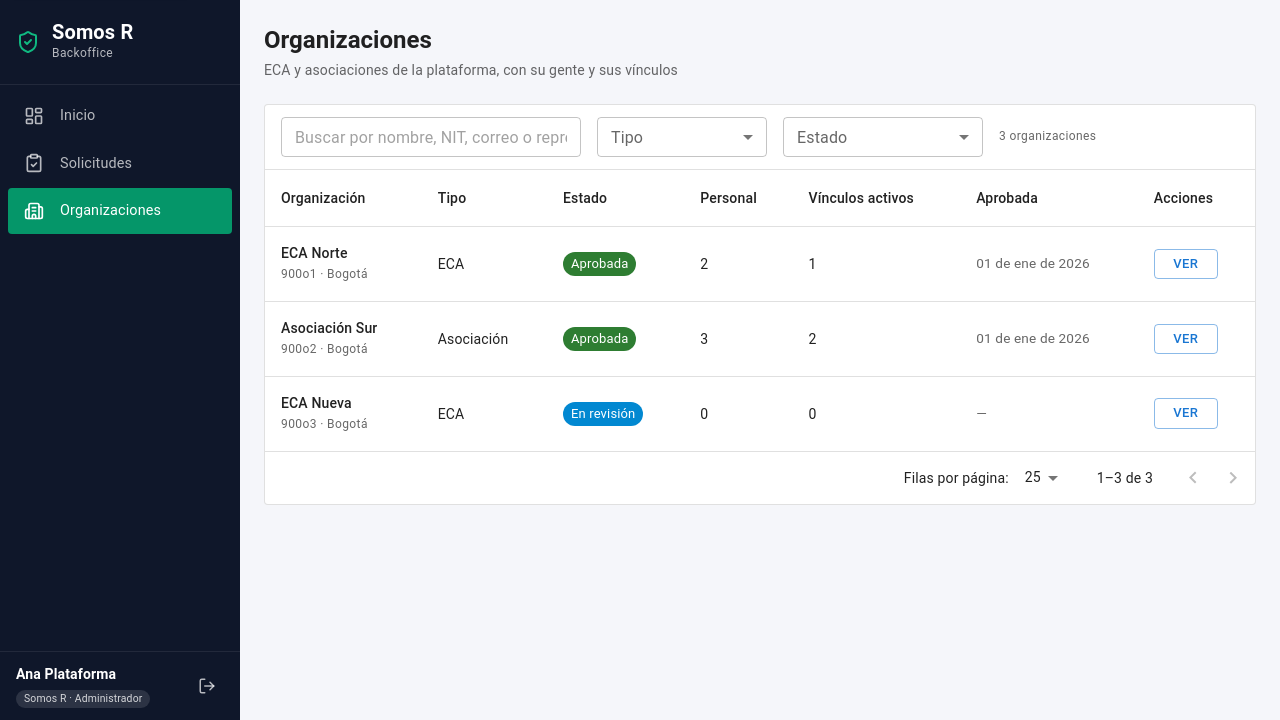
Test: organization detail › shows an Association with its recyclers and no warehouses
Step 1. Click the button "Ver" in the row of "Asociación Sur" → (1186, 339), box top-left (1154, 324), bottom-right (1218, 354)
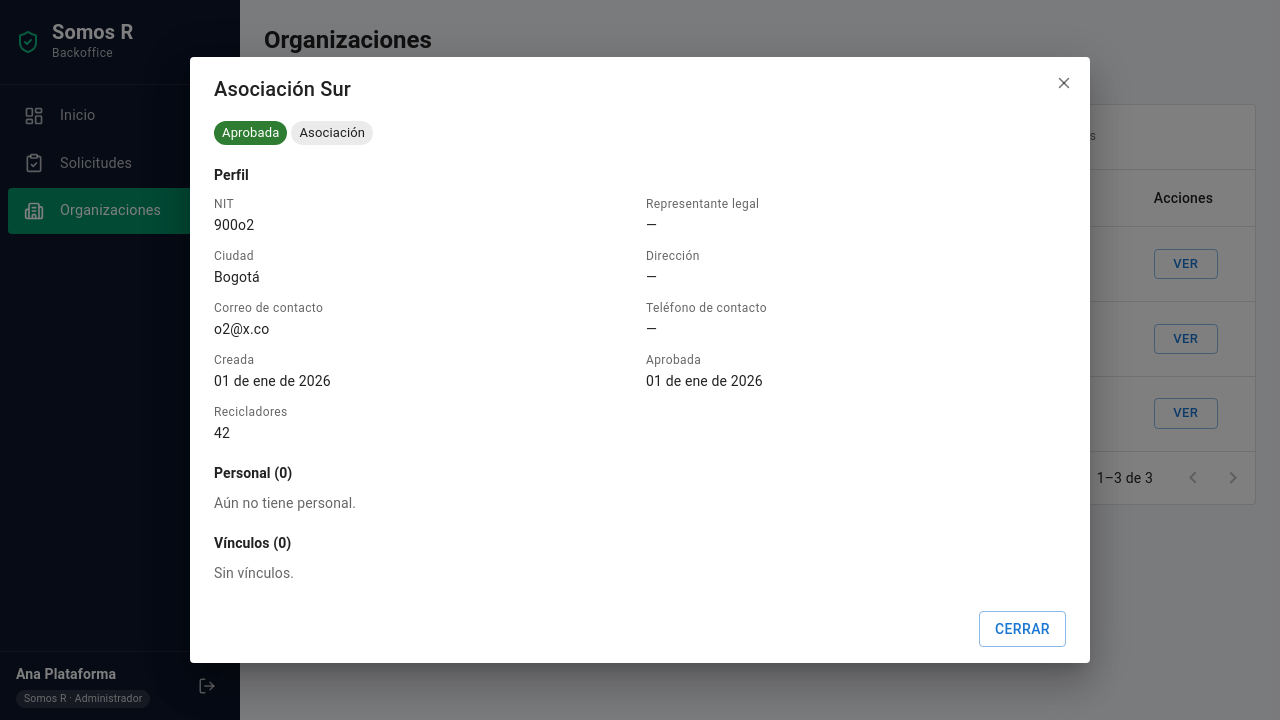
Expected: the text "Recicladores" is shown, top-left (214, 405), bottom-right (288, 419)
Expected: the text "42" is shown, top-left (214, 424), bottom-right (230, 440)
Expected: the text "Aún no tiene personal." is shown, top-left (214, 494), bottom-right (356, 510)
